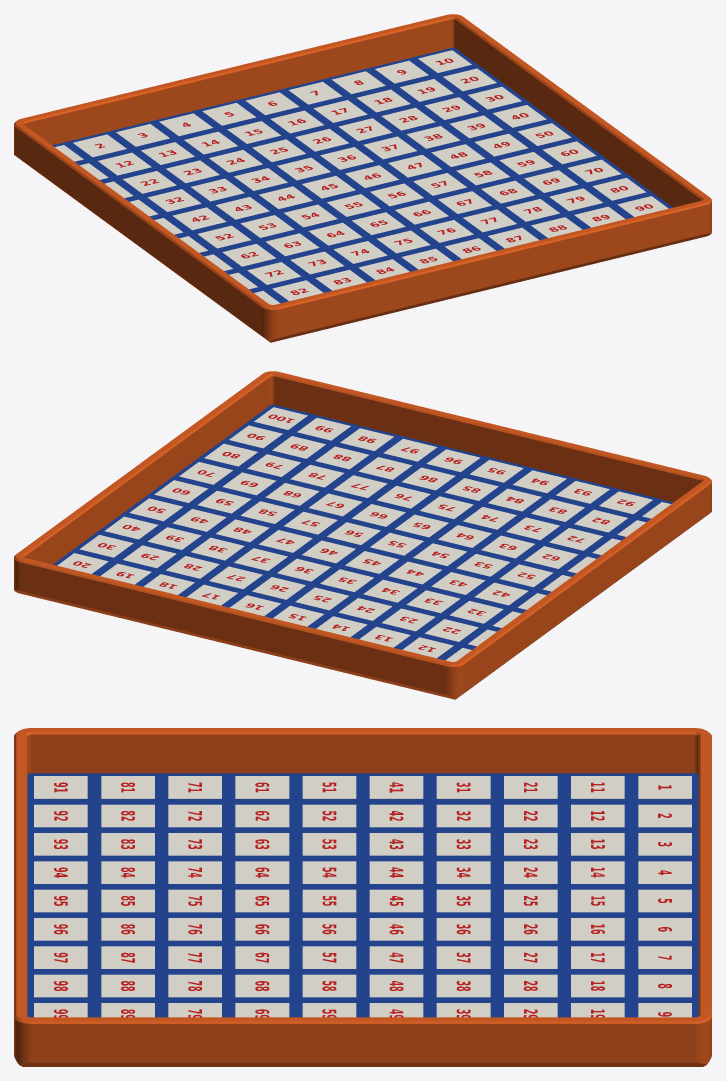
The model's file is tabulka100.glb.
The picture shows the model from 3 angles, top to bottom: view 1: azimuth 30°, elevation 25°; view 2: azimuth 150°, elevation 25°; view 3: azimuth 270°, elevation 25°; orthographic projection. The views are drawn at different scales.
Visible parts, largest first — view 1: 1_bunky_s_cisly, 4_stena, 2_mrizka, 3_cisla; view 2: 1_bunky_s_cisly, 4_stena, 2_mrizka, 3_cisla; view 3: 1_bunky_s_cisly, 4_stena, 2_mrizka, 3_cisla.
Part boxes in pixels (box(x1,y1,x2,y2)): 1_bunky_s_cisly: box(55, 50, 668, 304); 4_stena: box(14, 14, 711, 342); 2_mrizka: box(52, 47, 672, 303); 3_cisla: box(95, 58, 652, 294); 1_bunky_s_cisly: box(57, 407, 670, 661); 4_stena: box(14, 371, 711, 699); 2_mrizka: box(53, 404, 673, 660); 3_cisla: box(73, 414, 634, 651); 1_bunky_s_cisly: box(34, 776, 691, 1017); 4_stena: box(14, 728, 711, 1066); 2_mrizka: box(27, 773, 698, 1017); 3_cisla: box(54, 782, 671, 1017).
Size of the model in its own units: 0.156 by 0.012 by 0.156.
